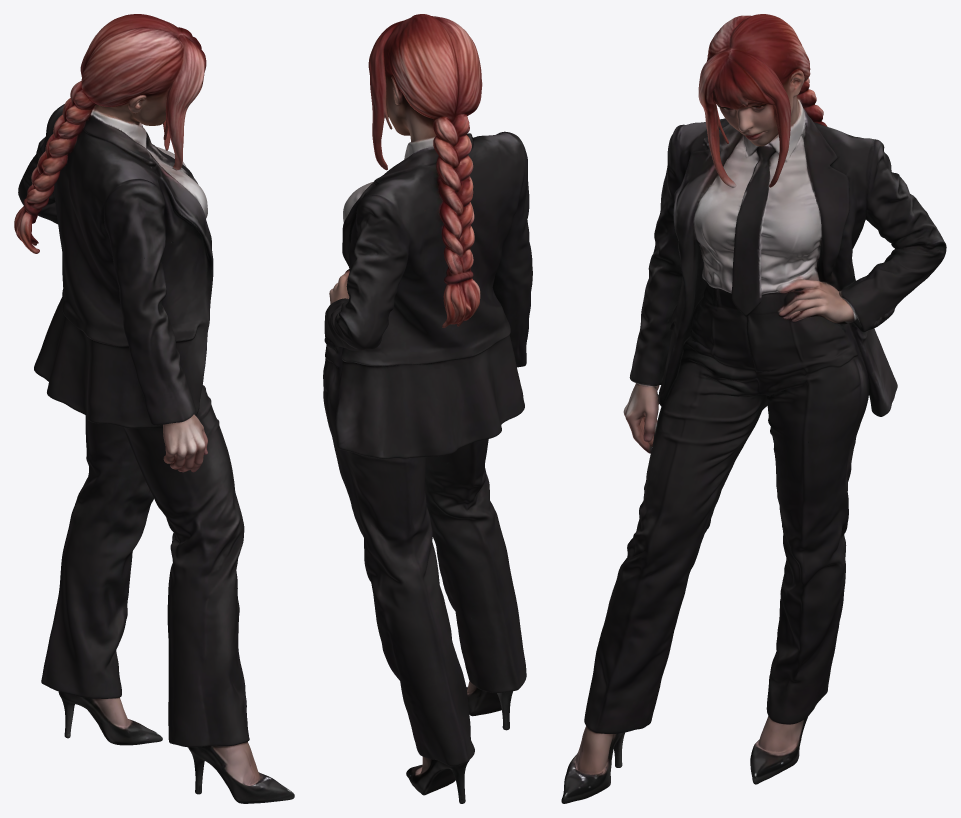
The model's file is ip-chainsaw-man__makima__real__sexy.glb.
3 views of the same model, side by side, from view 1: azimuth 30°, elevation 25°; view 2: azimuth 150°, elevation 25°; view 3: azimuth 270°, elevation 25° (orthographic). The views are drawn at different scales.
Visible parts, largest first — view 1: tripo_node_3d0316d6-7412-47bb-a759-d01a7311ed76; view 2: tripo_node_3d0316d6-7412-47bb-a759-d01a7311ed76; view 3: tripo_node_3d0316d6-7412-47bb-a759-d01a7311ed76.
Part boxes in pixels (x1=…): tripo_node_3d0316d6-7412-47bb-a759-d01a7311ed76: x1=14, y1=14, x2=294, y2=803; tripo_node_3d0316d6-7412-47bb-a759-d01a7311ed76: x1=323, y1=14, x2=532, y2=803; tripo_node_3d0316d6-7412-47bb-a759-d01a7311ed76: x1=561, y1=14, x2=946, y2=803.
Size of the model in its own units: 0.2138 by 1 by 0.4612.
1 material, 1 textured.
